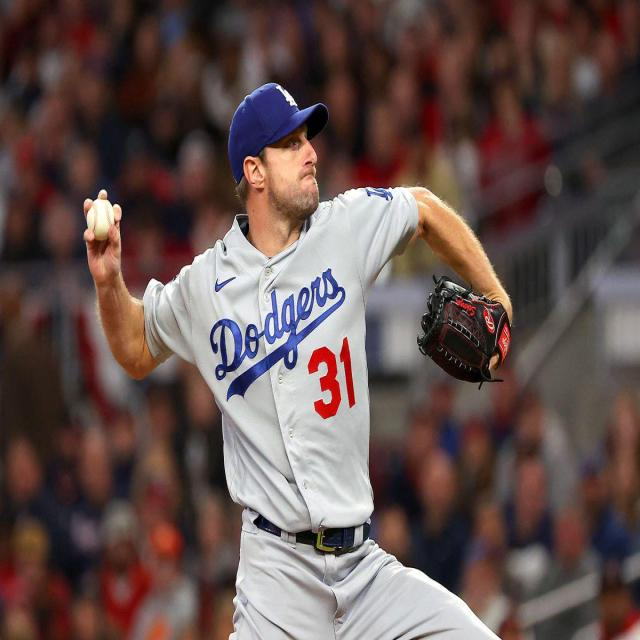baseball: (87, 198, 115, 240)
